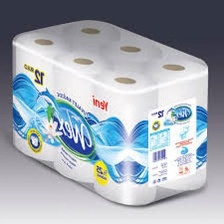tissue: (6, 13, 215, 212)
